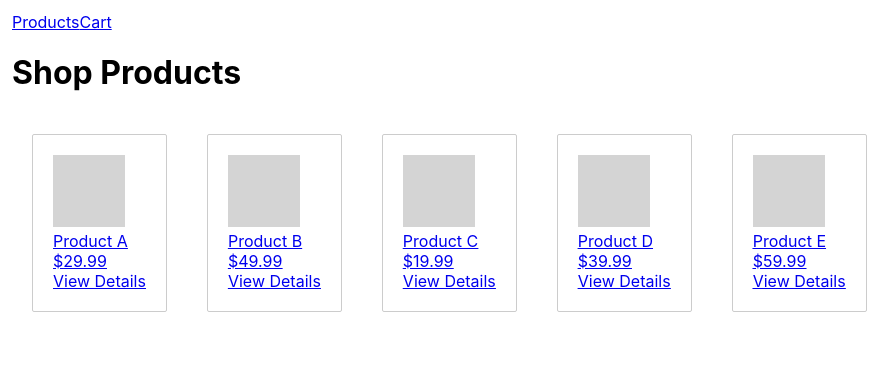
Scenario: Verify that clicking on a product in the product list takes you to the product details page
Expected: the element with test id "product-1" is shown, [32,134,167,312]
// Click on product A
Step 1. Click the text "View Details" below "29.99" → (99, 281), box [53,271,146,291]
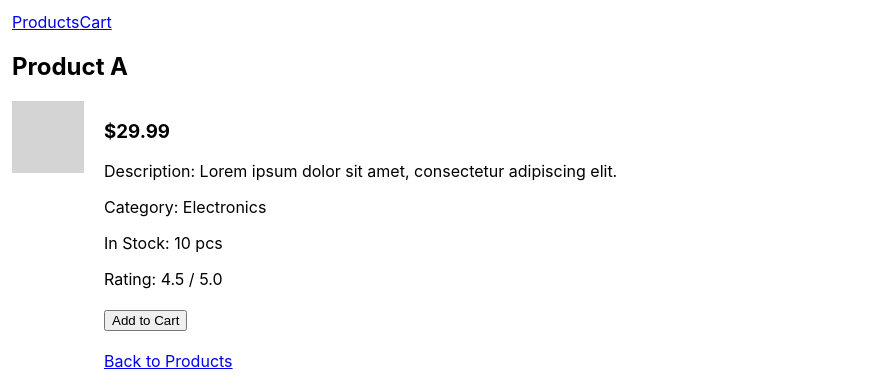
Expected: the heading "Shop Products" is gone
Expected: the text "Category: Electronics" is shown, [104,197,266,217]
Expected: the link "Back to Products" is shown, [104,351,232,371]
